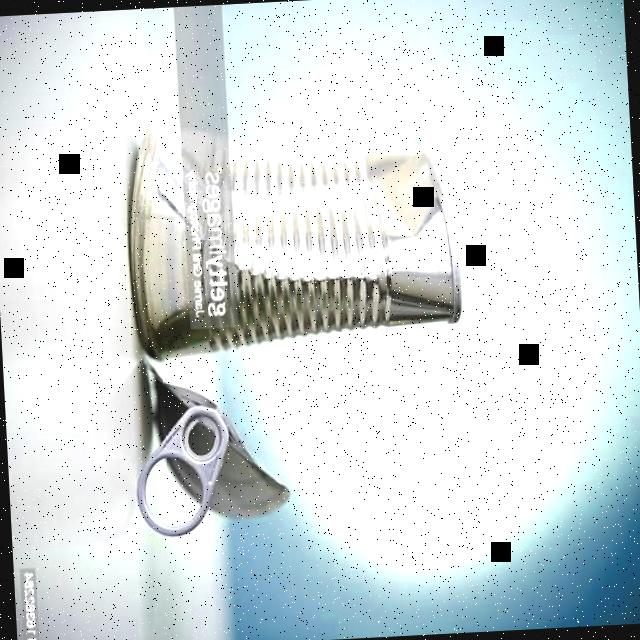can: (119, 102, 471, 356), (126, 351, 294, 541)
